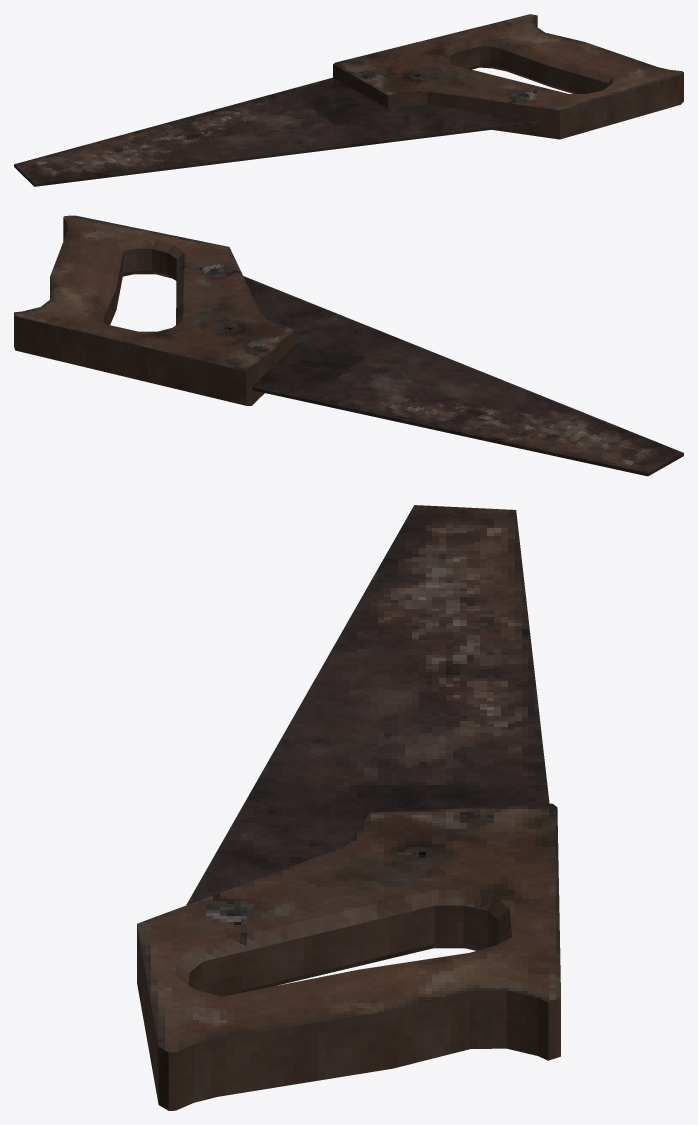
The model's file is hand_saw_1.glb.
3 renders of one model, top to bottom at view 1: azimuth 30°, elevation 25°; view 2: azimuth 150°, elevation 25°; view 3: azimuth 270°, elevation 25°, orthographic. The views are drawn at different scales.
Parts seen in each view (by area): view 1: hand_saw_1; view 2: hand_saw_1; view 3: hand_saw_1.
Boxes of the visible parts, bbox=[...] form: hand_saw_1: bbox=[14, 14, 683, 186]; hand_saw_1: bbox=[14, 215, 683, 476]; hand_saw_1: bbox=[137, 505, 560, 1110].
Size of the model in its own units: 0.6965 by 0.033 by 0.2175.
Materials: 1 (1 with a texture image).
